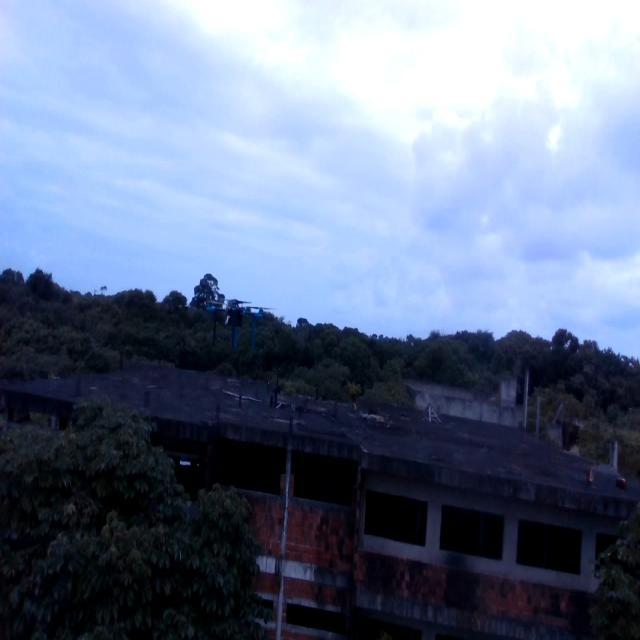-uav-: (197, 277, 278, 373)
